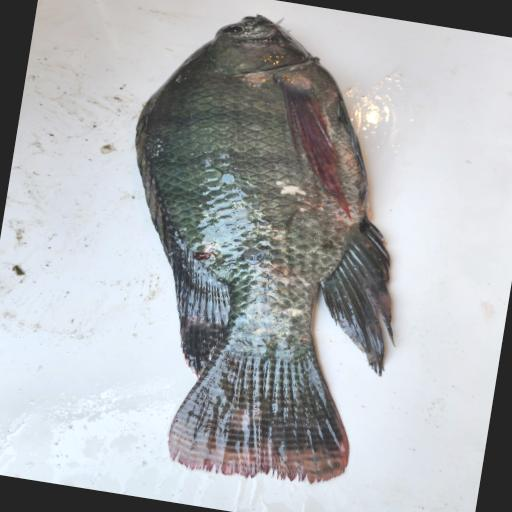Tilapia: (83, 0, 443, 499)
